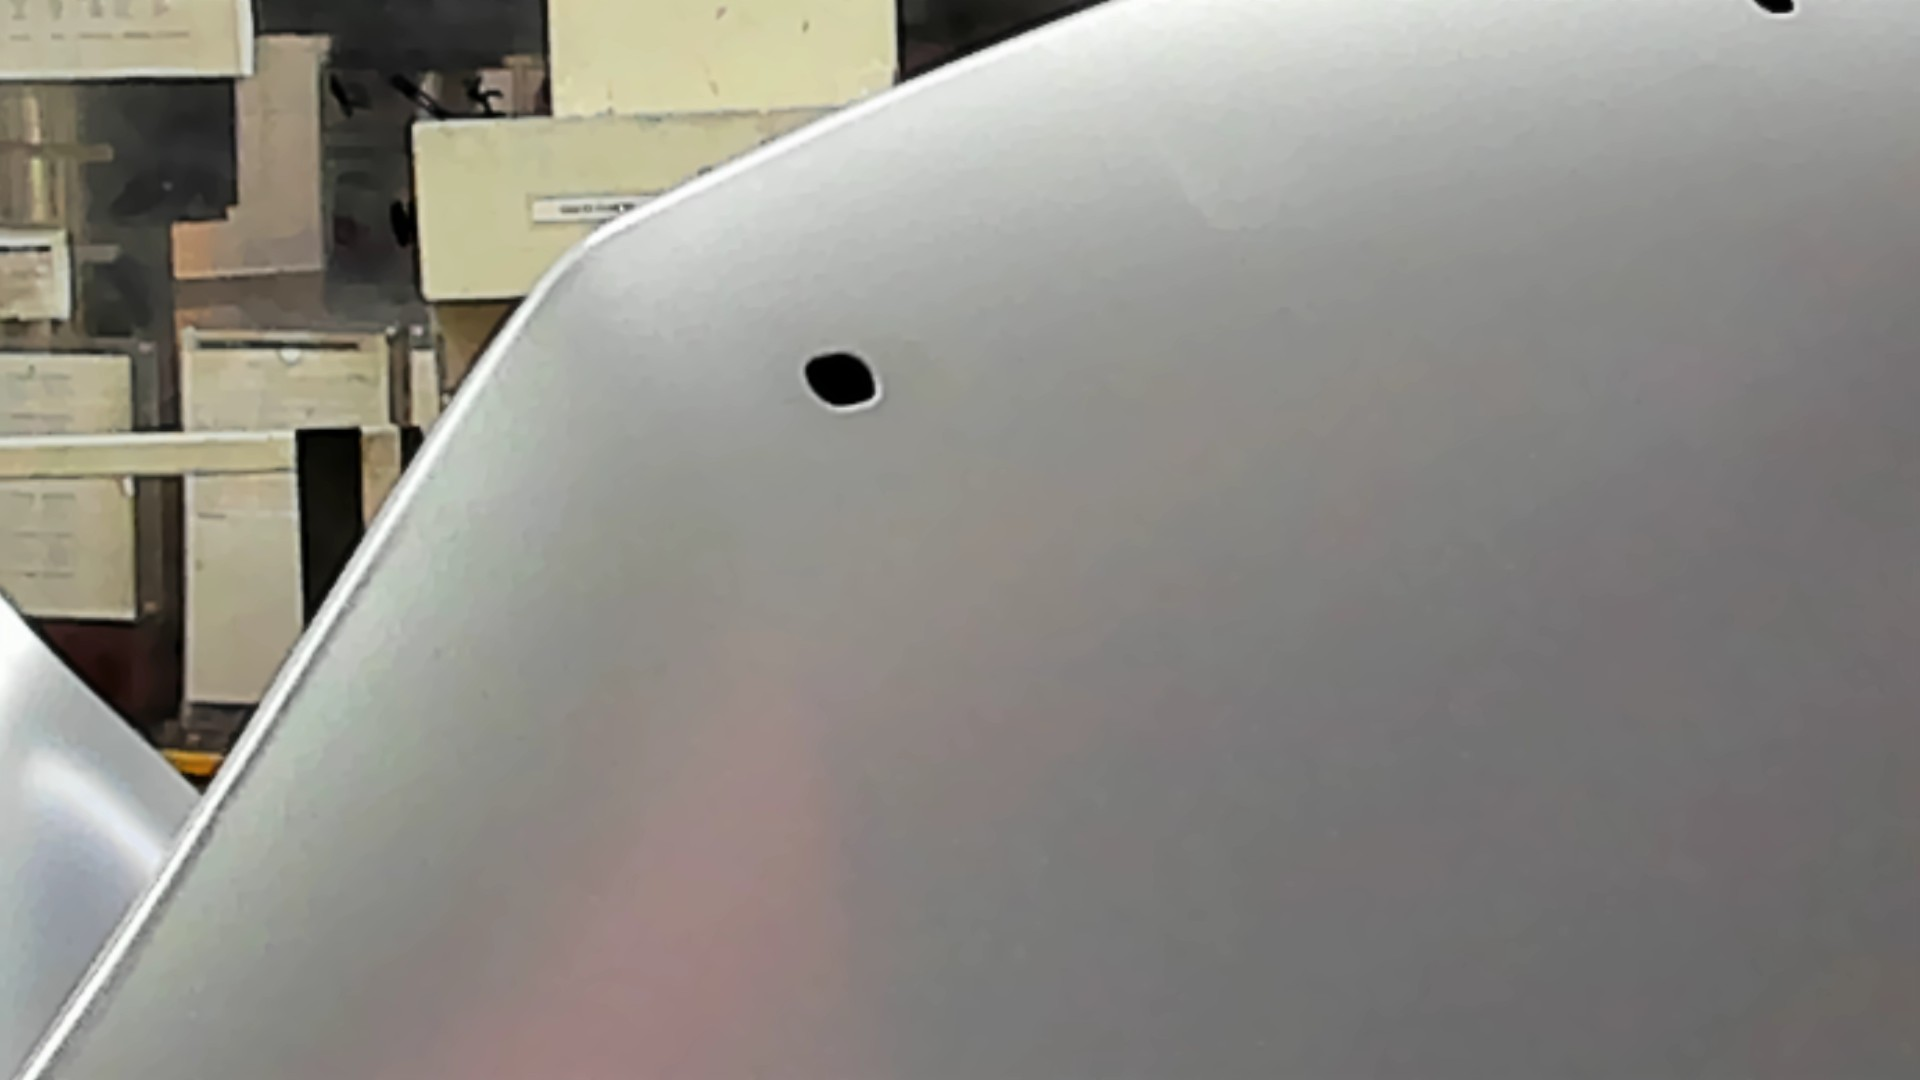amorfo: (799, 349, 881, 413), (1750, 1, 1801, 22)
